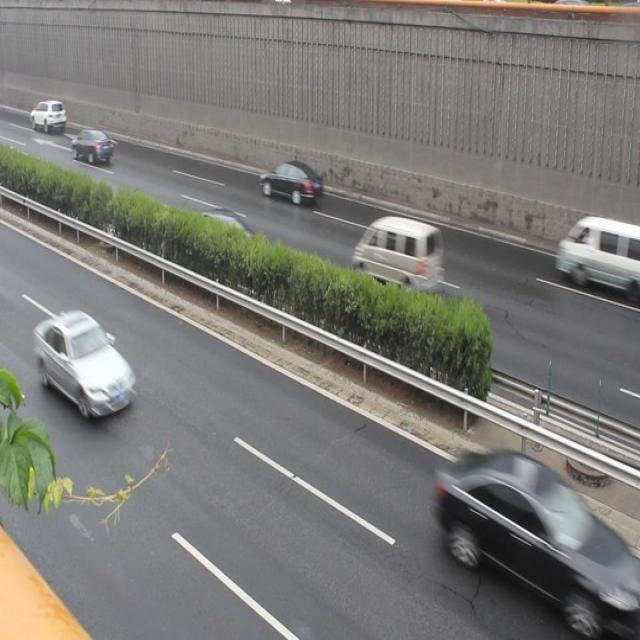car: (437, 452, 617, 618), (37, 311, 136, 417), (182, 208, 250, 263), (259, 157, 320, 204), (73, 128, 114, 166)
truck: (350, 217, 442, 290), (556, 216, 632, 297)
